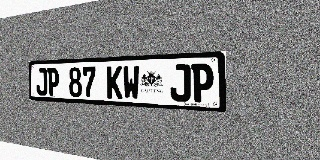7: (82, 67, 96, 98)
8: (69, 67, 82, 97)
J: (170, 64, 191, 102), (36, 68, 47, 96)
K: (107, 66, 123, 99)
P: (191, 63, 214, 103), (47, 68, 59, 96)
W: (123, 65, 140, 100)
